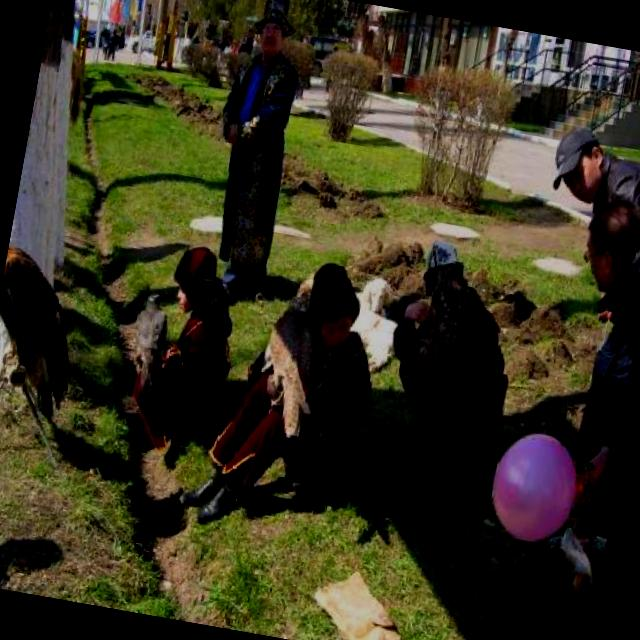Person: (175, 248, 392, 556), (501, 120, 640, 506), (369, 236, 534, 490), (192, 3, 312, 302), (122, 238, 249, 464), (565, 200, 640, 367), (106, 26, 118, 59)
